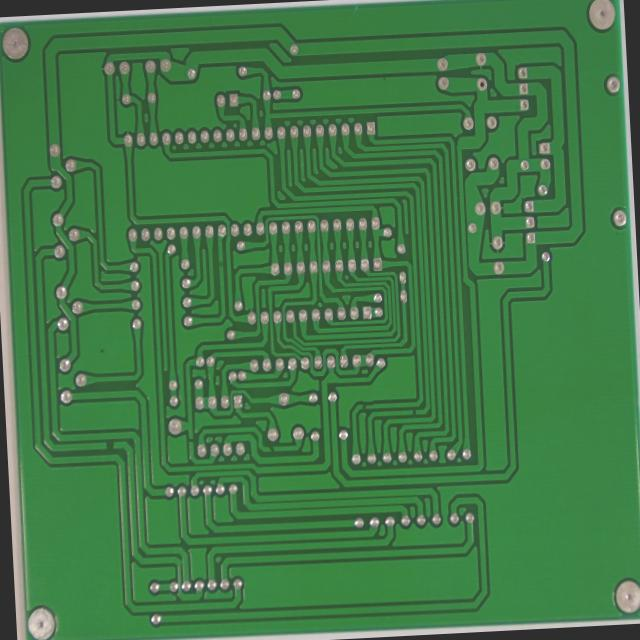open_circuit: (102, 434, 118, 448), (269, 437, 279, 451), (362, 395, 373, 407), (188, 429, 197, 440), (413, 402, 422, 412)
